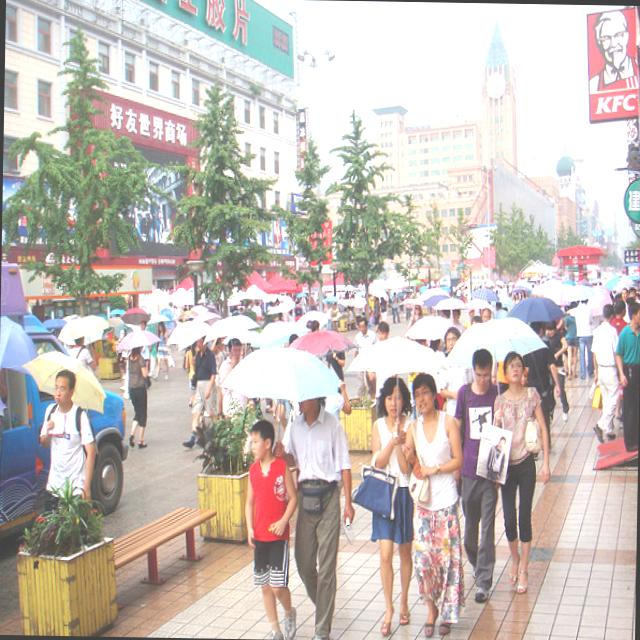Vehicle: (0, 357, 53, 537), (0, 261, 72, 357)
